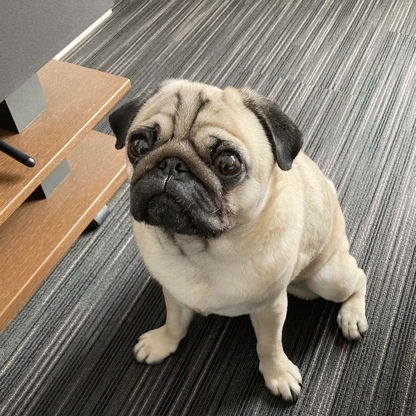Pug: (105, 74, 373, 406)
